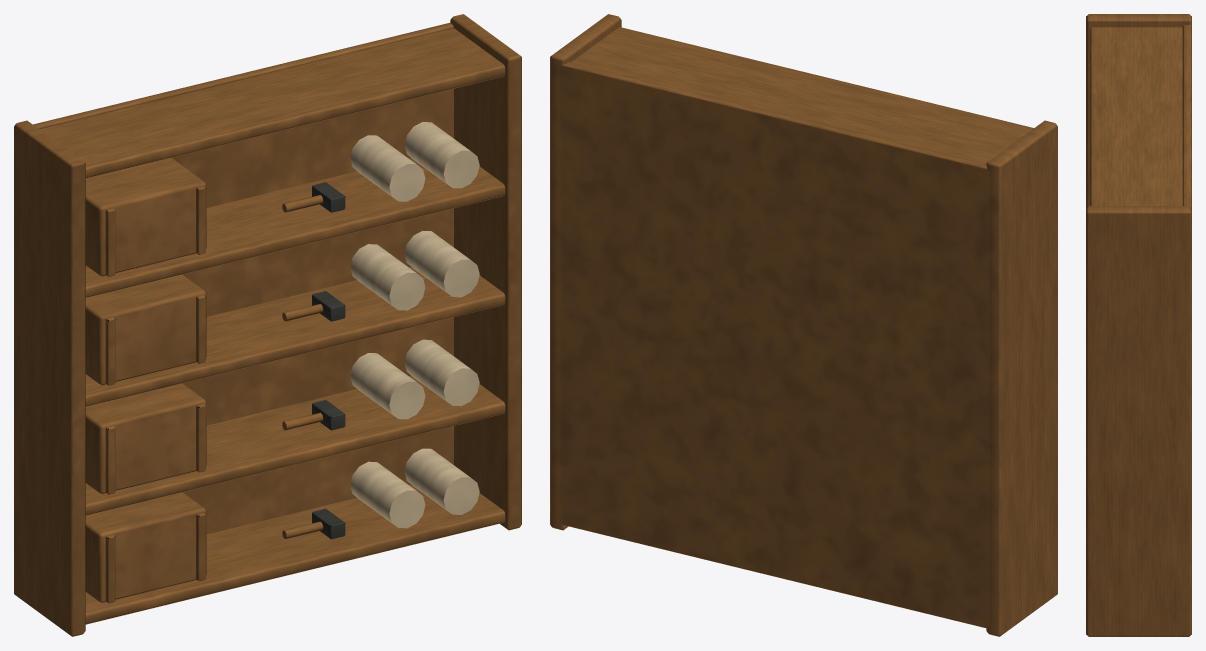
Rendered from Furn_StoreShelf.fbx.
3 renders of one model, left to right at view 1: azimuth 30°, elevation 25°; view 2: azimuth 150°, elevation 25°; view 3: azimuth 270°, elevation 25°, orthographic. The views are drawn at different scales.
Visible parts, largest first — view 1: Furn_StoreShelf_Mesh; view 2: Furn_StoreShelf_Mesh; view 3: Furn_StoreShelf_Mesh.
Part boxes in pixels (x1,y1,x2,y2): Furn_StoreShelf_Mesh: (14,14,521,636); Furn_StoreShelf_Mesh: (550,14,1057,636); Furn_StoreShelf_Mesh: (1086,14,1191,636).
Bounding box in the file's own units: 2 × 2 × 0.45.
Materials: 3 (3 with a texture image).
